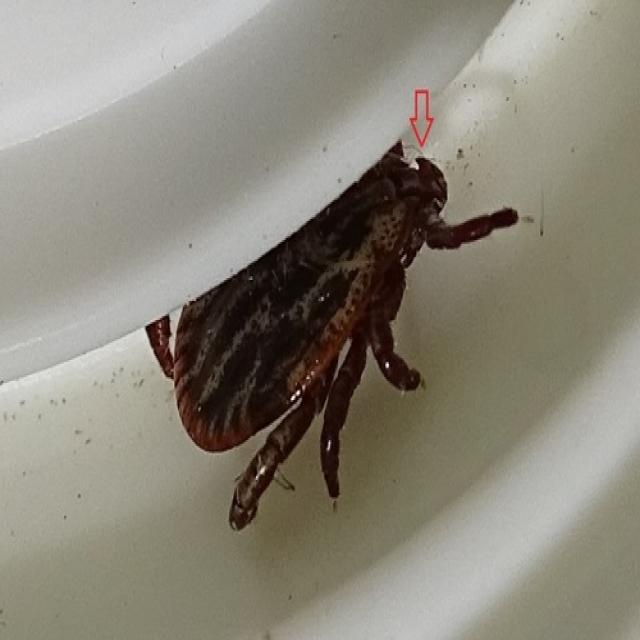Dermacentor Reticulatus-M: (145, 141, 521, 530)
